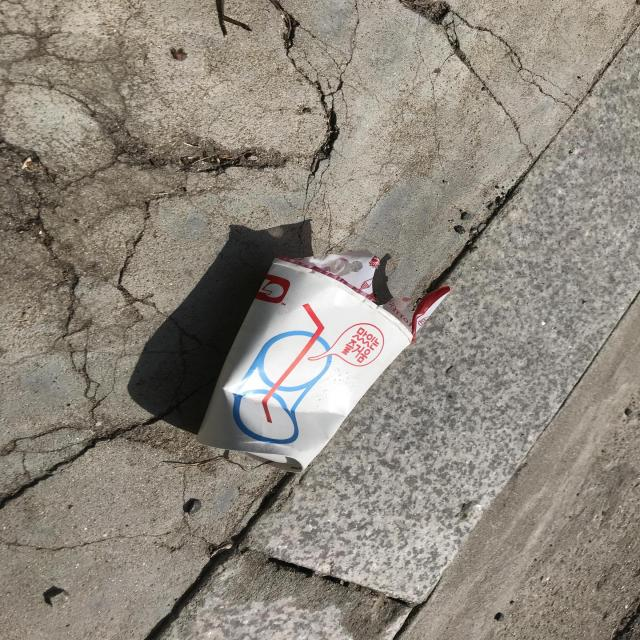paperpack: (197, 251, 450, 473)
